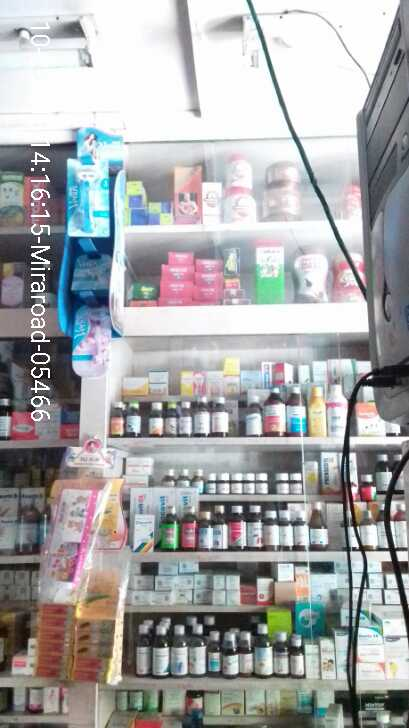beauty: (65, 160, 105, 235), (73, 306, 111, 379), (68, 251, 109, 294)
